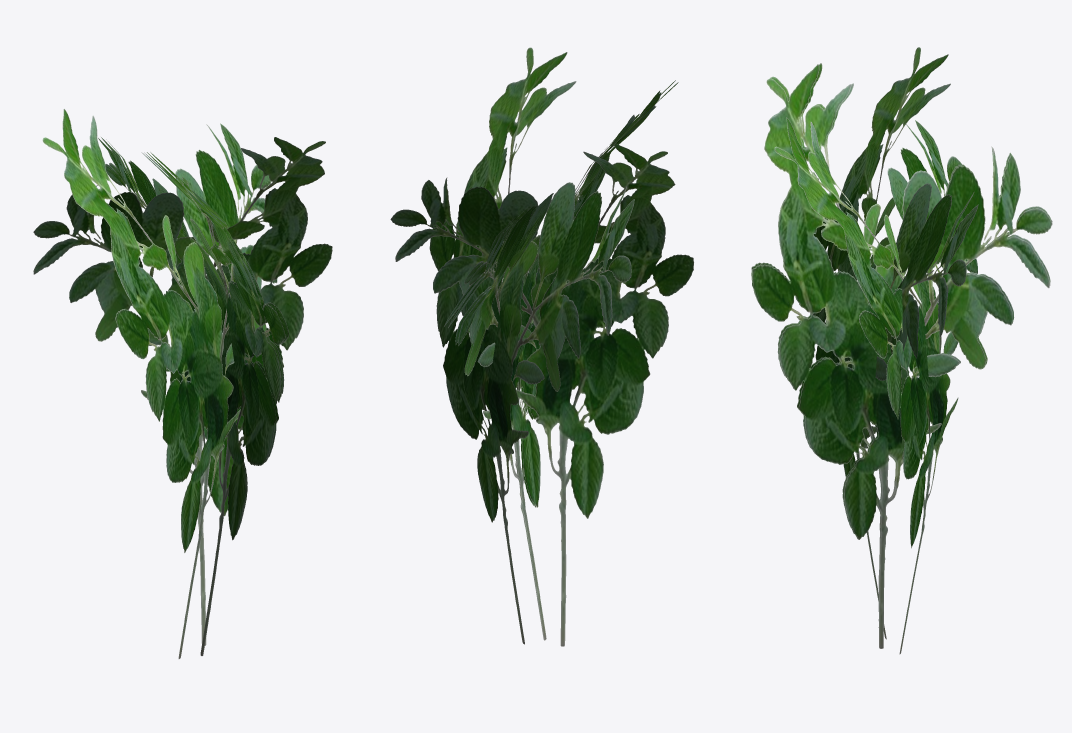
Rendered from hierbabuena.fbx.
3 renders of one model, left to right at view 1: azimuth 30°, elevation 25°; view 2: azimuth 150°, elevation 25°; view 3: azimuth 270°, elevation 25°, orthographic.
Parts seen in each view (by area): view 1: hierbabuena; view 2: hierbabuena; view 3: hierbabuena.
Part boxes in pixels (x1,y1,x2,y2): hierbabuena: (33,109,332,658); hierbabuena: (390,47,693,646); hierbabuena: (751,47,1052,654).
Bounding box in the file's own units: 10.99 × 20.07 × 10.08.
